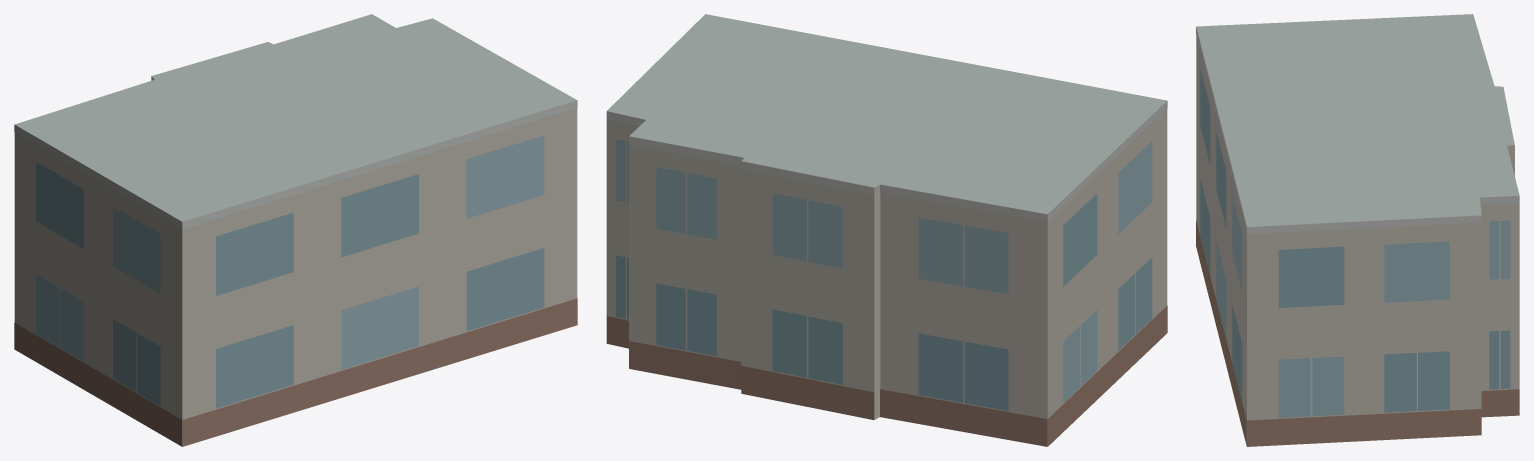
The model's file is survey-upis-32621816.glb.
The picture shows the model from 3 angles, left to right: view 1: azimuth 30°, elevation 25°; view 2: azimuth 150°, elevation 25°; view 3: azimuth 270°, elevation 25°; orthographic projection. The views are drawn at different scales.
Parts seen in each view (by area): view 1: survey-upis-32621816.tmp; view 2: survey-upis-32621816.tmp; view 3: survey-upis-32621816.tmp.
Boxes of the visible parts, left/top/right/bottom form: survey-upis-32621816.tmp: left=14, top=14, right=577, bottom=446; survey-upis-32621816.tmp: left=606, top=14, right=1167, bottom=446; survey-upis-32621816.tmp: left=1196, top=14, right=1519, bottom=446.
Bounding box in the file's own units: 15.4 × 7.4 × 9.89.
